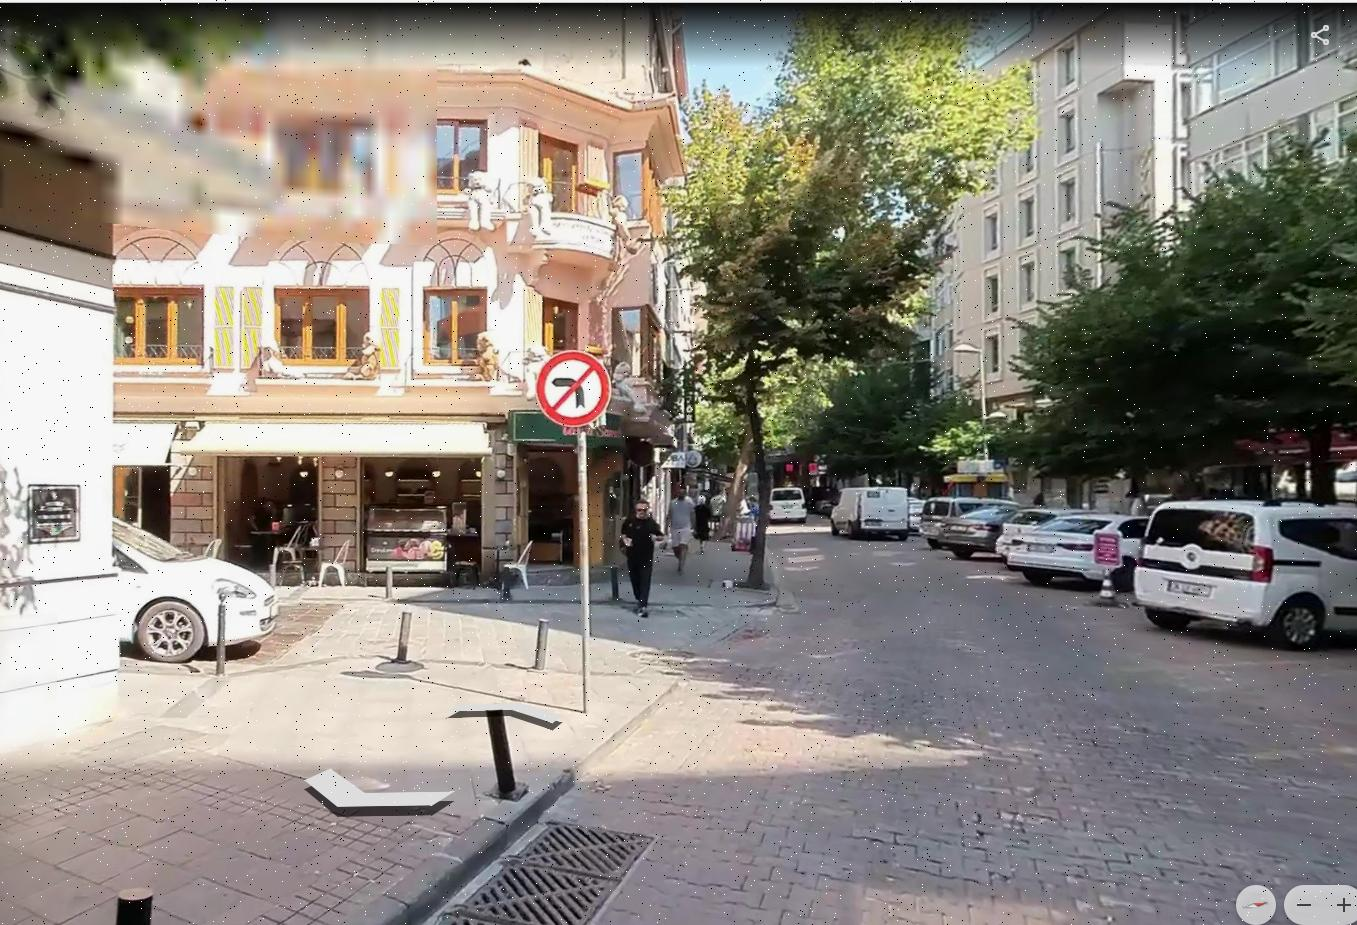leftturnsareforbidden: (535, 352, 611, 426)
